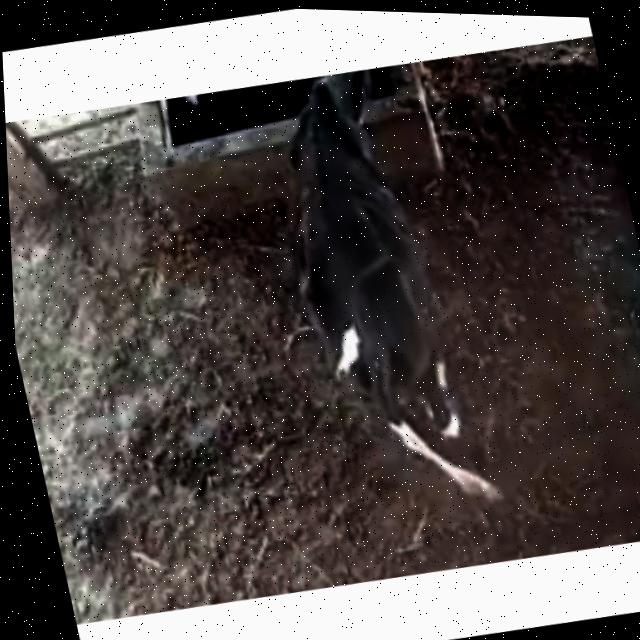drink: (224, 55, 449, 230)
